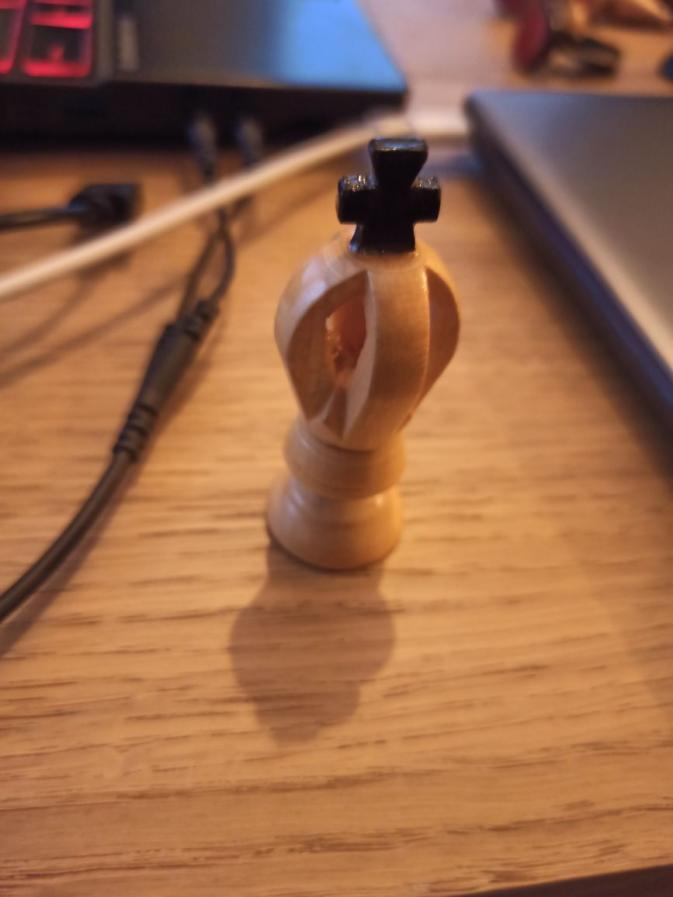wking: (257, 142, 466, 577)
